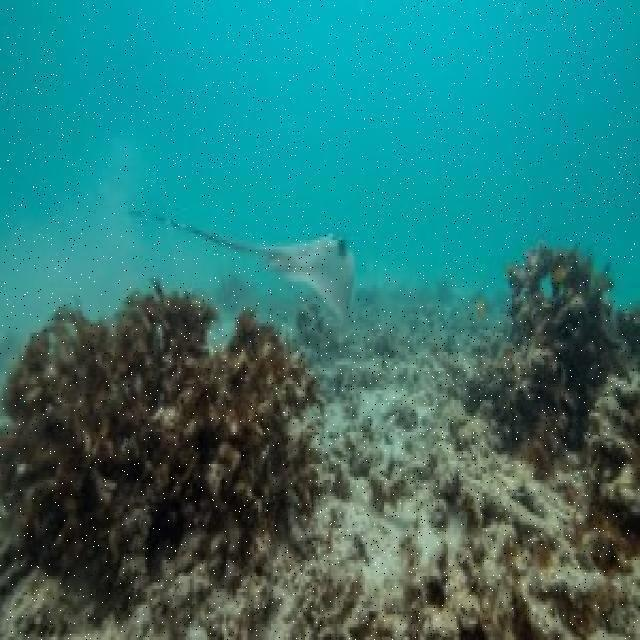Bleached: (297, 308, 483, 640), (484, 467, 640, 640), (1, 566, 297, 637)
Healthy: (4, 293, 300, 569), (477, 243, 621, 464)
